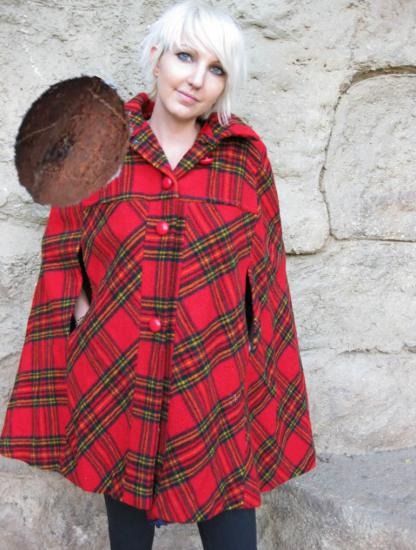Cocos: (2, 72, 143, 213)
